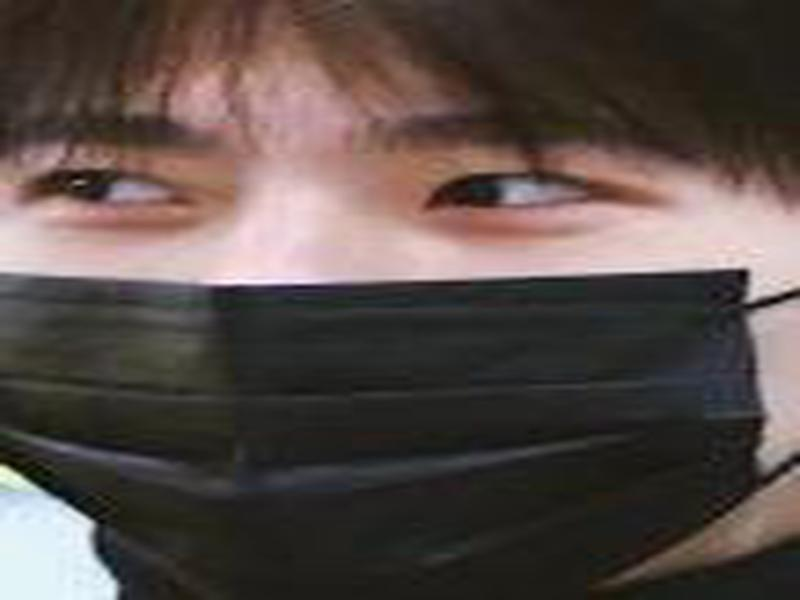with_mask: (1, 1, 797, 594)
